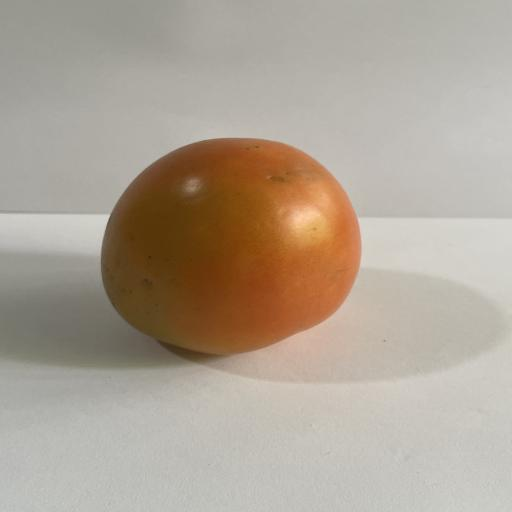unripe: (101, 138, 361, 354)
